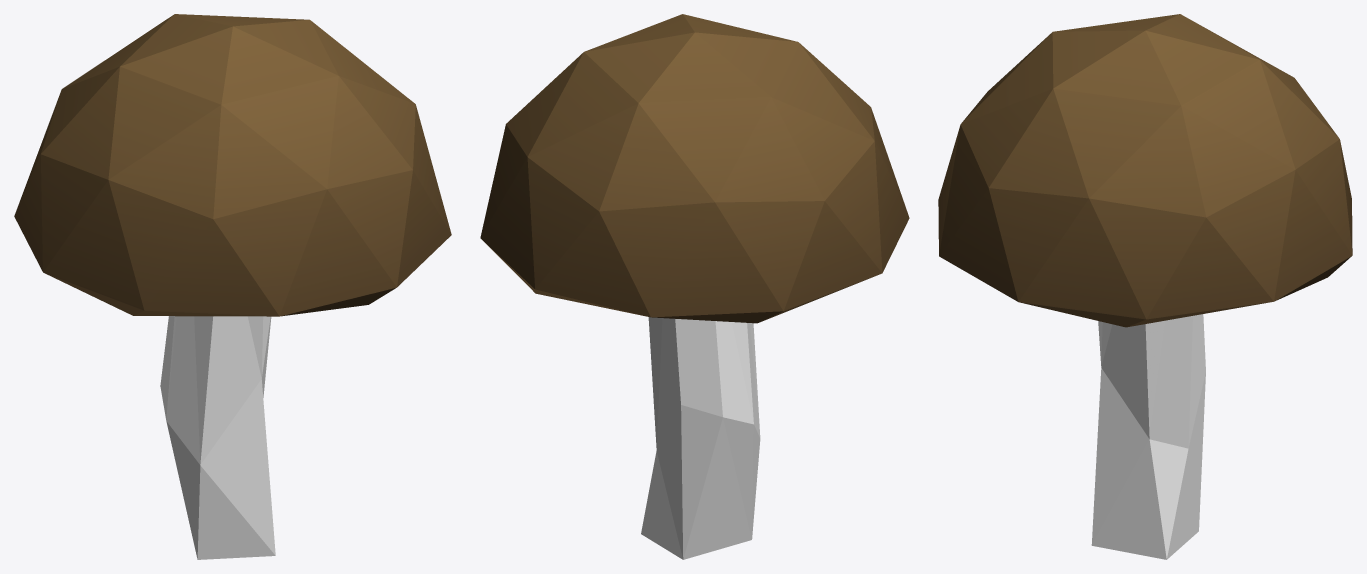
The model's file is Mushroom_04.fbx.
The picture shows the model from 3 angles, left to right: view 1: azimuth 30°, elevation 25°; view 2: azimuth 150°, elevation 25°; view 3: azimuth 270°, elevation 25°; orthographic projection.
Visible parts, largest first — view 1: Mushroom_04; view 2: Mushroom_04; view 3: Mushroom_04.
Boxes of the visible parts, left/top/right/bottom form: Mushroom_04: left=14, top=14, right=451, bottom=559; Mushroom_04: left=480, top=14, right=909, bottom=559; Mushroom_04: left=938, top=14, right=1352, bottom=559.
Size of the model in its own units: 0.2313 by 0.2982 by 0.2203.
